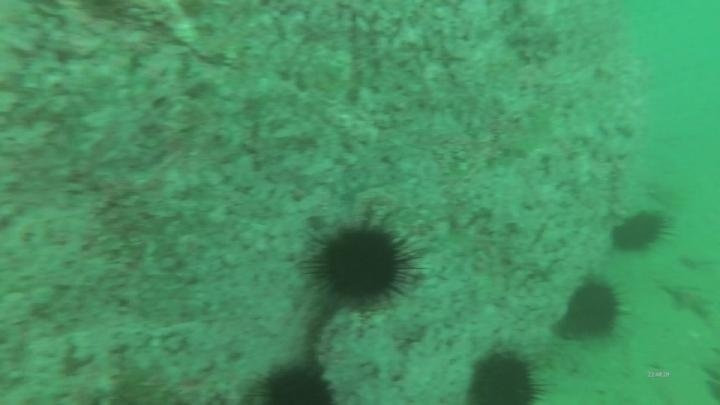echinus: (307, 217, 417, 309), (466, 347, 546, 405), (559, 276, 628, 342), (254, 359, 338, 404), (624, 208, 671, 236), (612, 223, 650, 250)
starfish: (660, 281, 715, 322)
